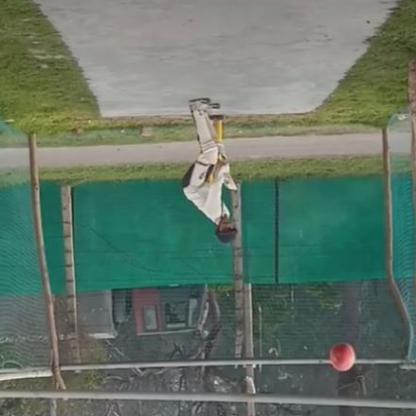ball: (323, 336, 358, 373)
